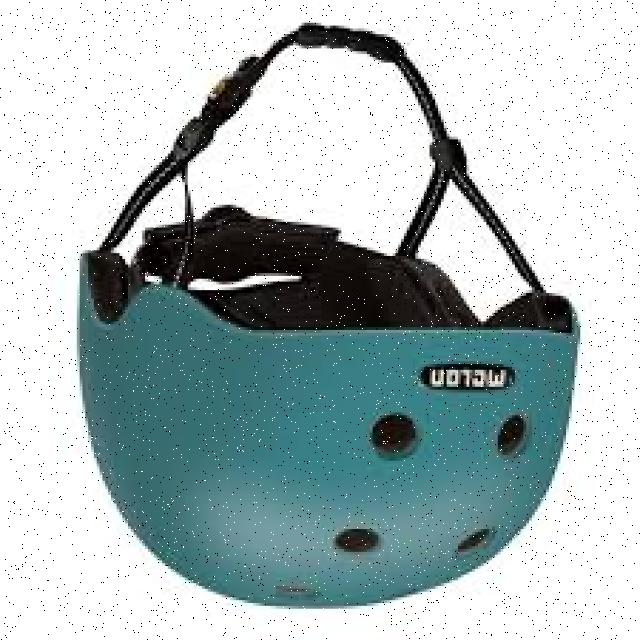Helmet: (62, 207, 590, 603)
